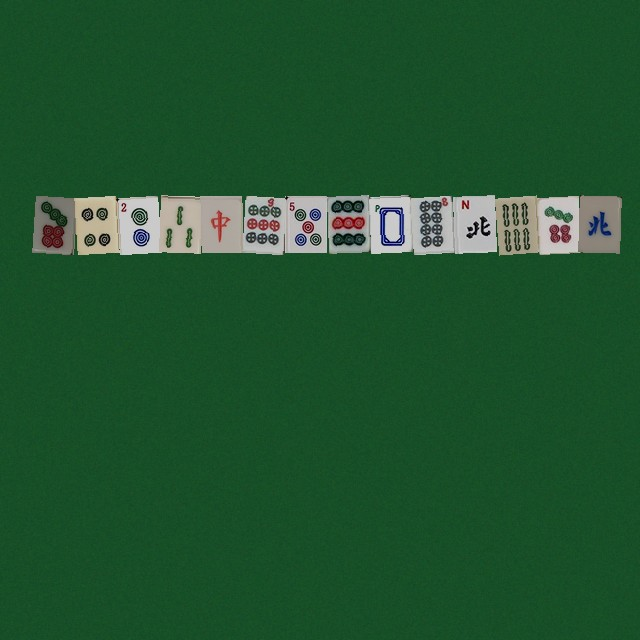tile: (32, 195, 74, 252), (74, 195, 116, 252), (116, 195, 158, 252), (158, 195, 200, 252), (200, 195, 242, 252), (242, 195, 284, 252), (284, 195, 326, 252), (326, 195, 368, 252), (368, 195, 410, 252), (410, 195, 452, 252), (452, 195, 494, 252), (494, 195, 536, 252), (536, 195, 578, 252), (578, 195, 620, 252)
